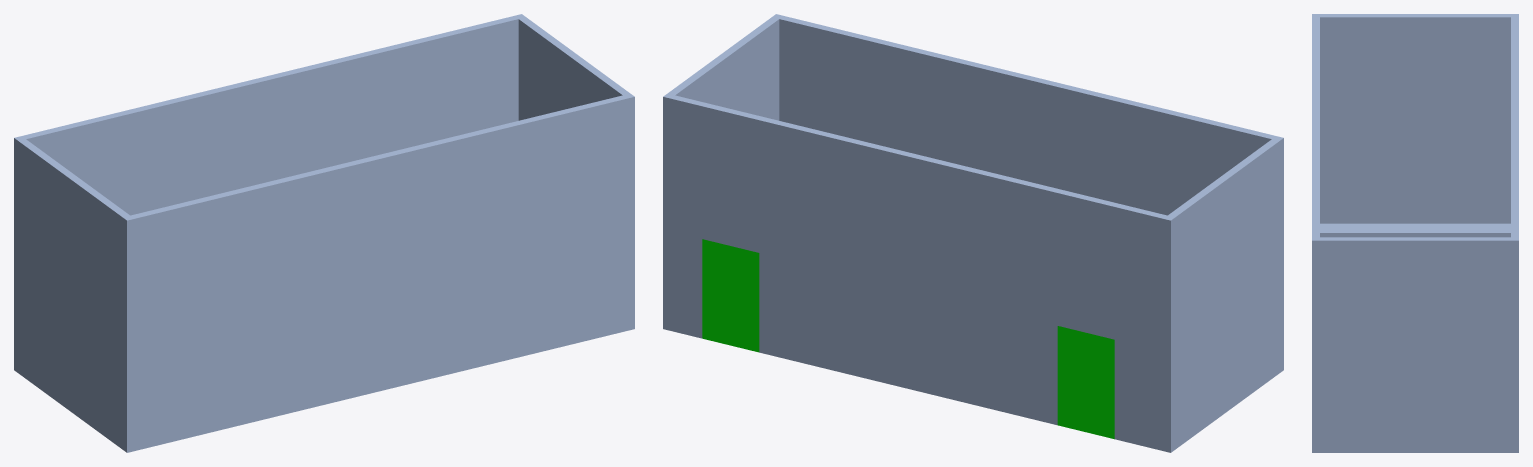
File: Water_Softening_Room_expansion.glb
3 renders of one model, left to right at view 1: azimuth 30°, elevation 25°; view 2: azimuth 150°, elevation 25°; view 3: azimuth 270°, elevation 25°, orthographic. The views are drawn at different scales.
Visible parts, largest first — view 1: Floor1; view 2: Floor1; view 3: Floor1.
Boxes of the visible parts, left/top/right/bottom form: Floor1: left=14, top=14, right=634, bottom=452; Floor1: left=663, top=14, right=1283, bottom=452; Floor1: left=1312, top=14, right=1518, bottom=452.
Size of the model in its own units: 16.01 by 7 by 6.17.
